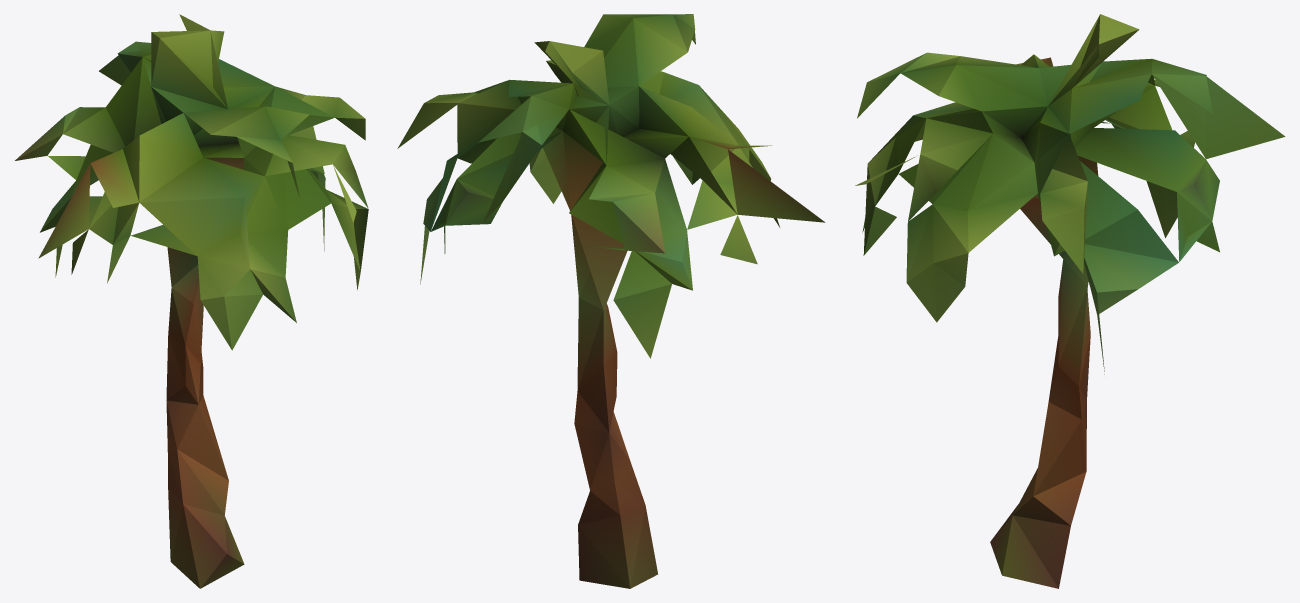
Rendered from palm.glb.
3 views of the same model, side by side, from view 1: azimuth 30°, elevation 25°; view 2: azimuth 150°, elevation 25°; view 3: azimuth 270°, elevation 25° (orthographic). The views are drawn at different scales.
Visible parts, largest first — view 1: palm-far; view 2: palm-far; view 3: palm-far.
Boxes of the visible parts, x1,y1,x2,y2 form: palm-far: (15,14,368,588); palm-far: (397,14,825,588); palm-far: (855,14,1285,588).
Bounding box in the file's own units: 0.7178 × 0.9835 × 0.688.
